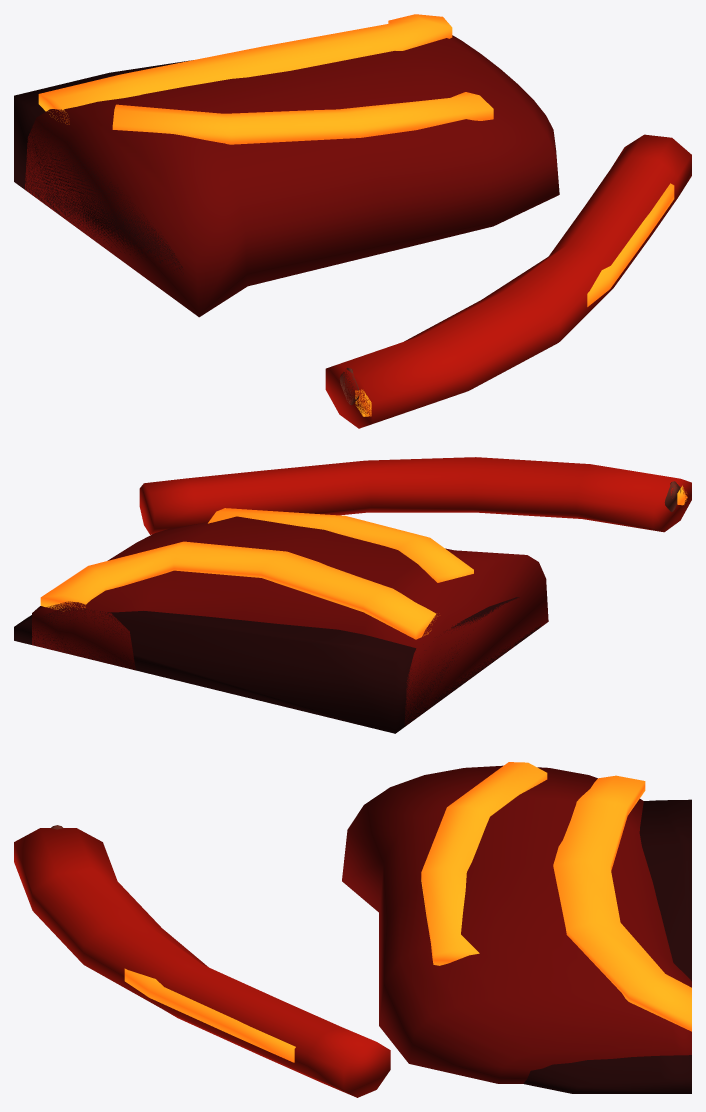
Rendered from newshe-129.glb.
3 views of the same model, one above another, from view 1: azimuth 30°, elevation 25°; view 2: azimuth 150°, elevation 25°; view 3: azimuth 270°, elevation 25° (orthographic). The views are drawn at different scales.
Parts seen in each view (by area): view 1: newshe-129; view 2: newshe-129; view 3: newshe-129.
Boxes of the visible parts, left/top/right/bottom form: newshe-129: left=14, top=14, right=691, bottom=428; newshe-129: left=14, top=457, right=691, bottom=733; newshe-129: left=14, top=762, right=691, bottom=1097.
Bounding box in the file's own units: 1.51 × 0.3855 × 1.9.
